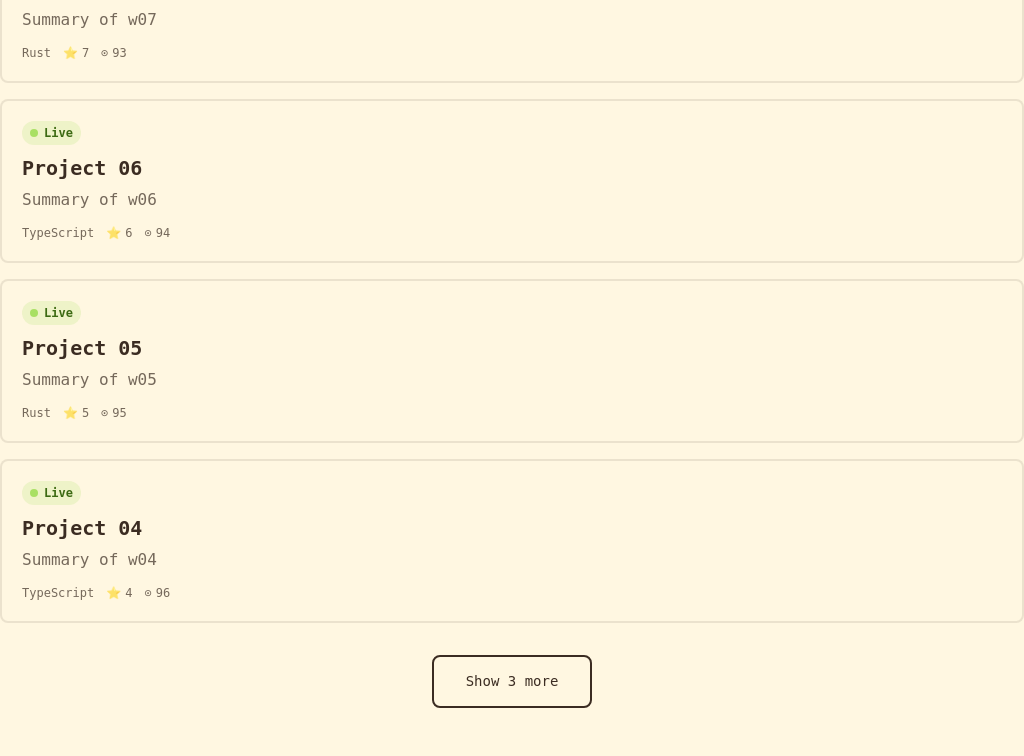
Scenario: FilterSort island › show-more (LIMIT=12) › collapses back to 12 when clicked again
(page scrolled)
What coordinates should you click on to do the following:
click the button with class "show-more-btn"
I would click on:
 (512, 682)
Its box is [432, 655, 592, 708].
(page scrolled)
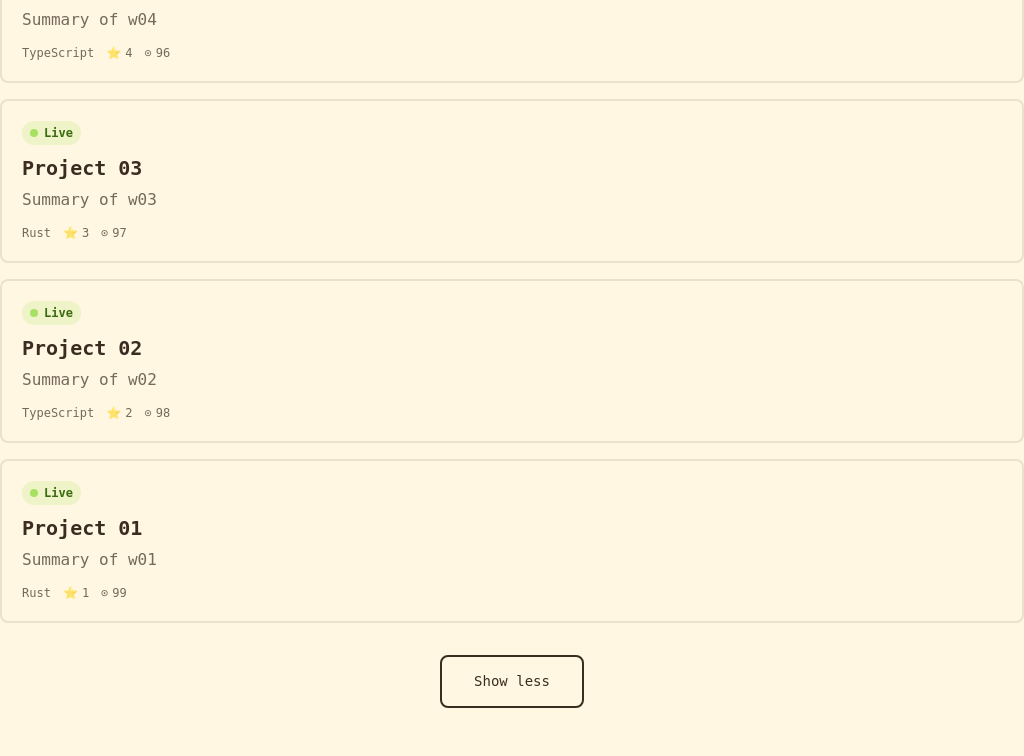
What coordinates should you click on to do the following:
click the button with class "show-more-btn"
I would click on:
 (512, 682)
Its box is [440, 655, 584, 708].
(page scrolled)
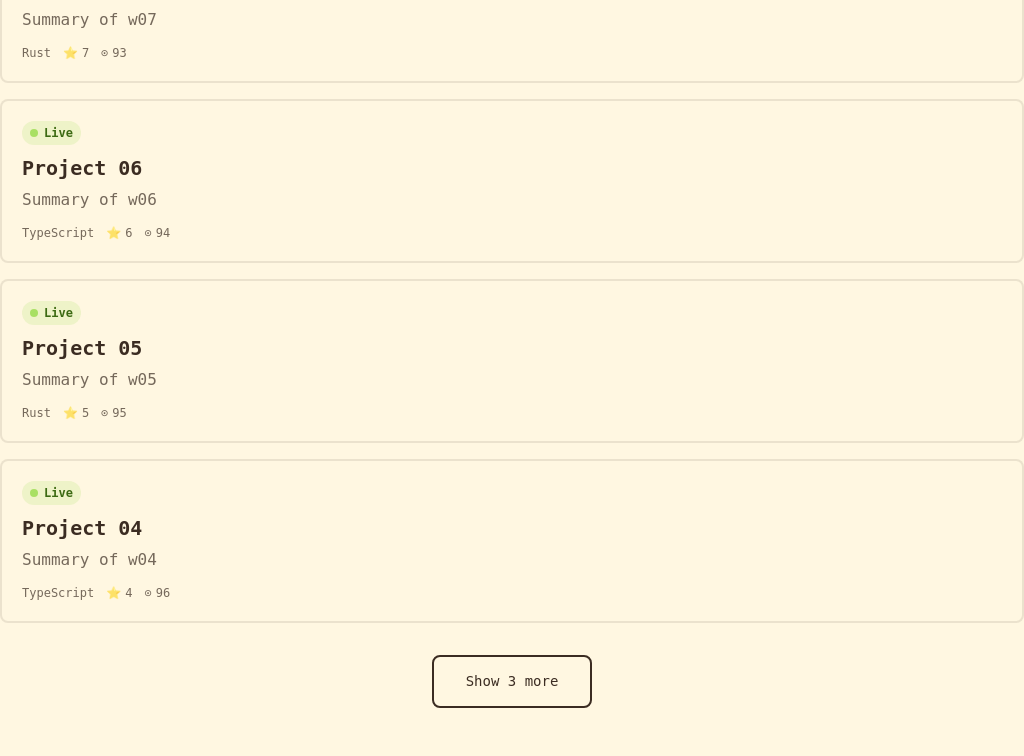
Expected: the button with class "show-more-btn" reads "Show 3 more", [432, 655, 592, 708]
